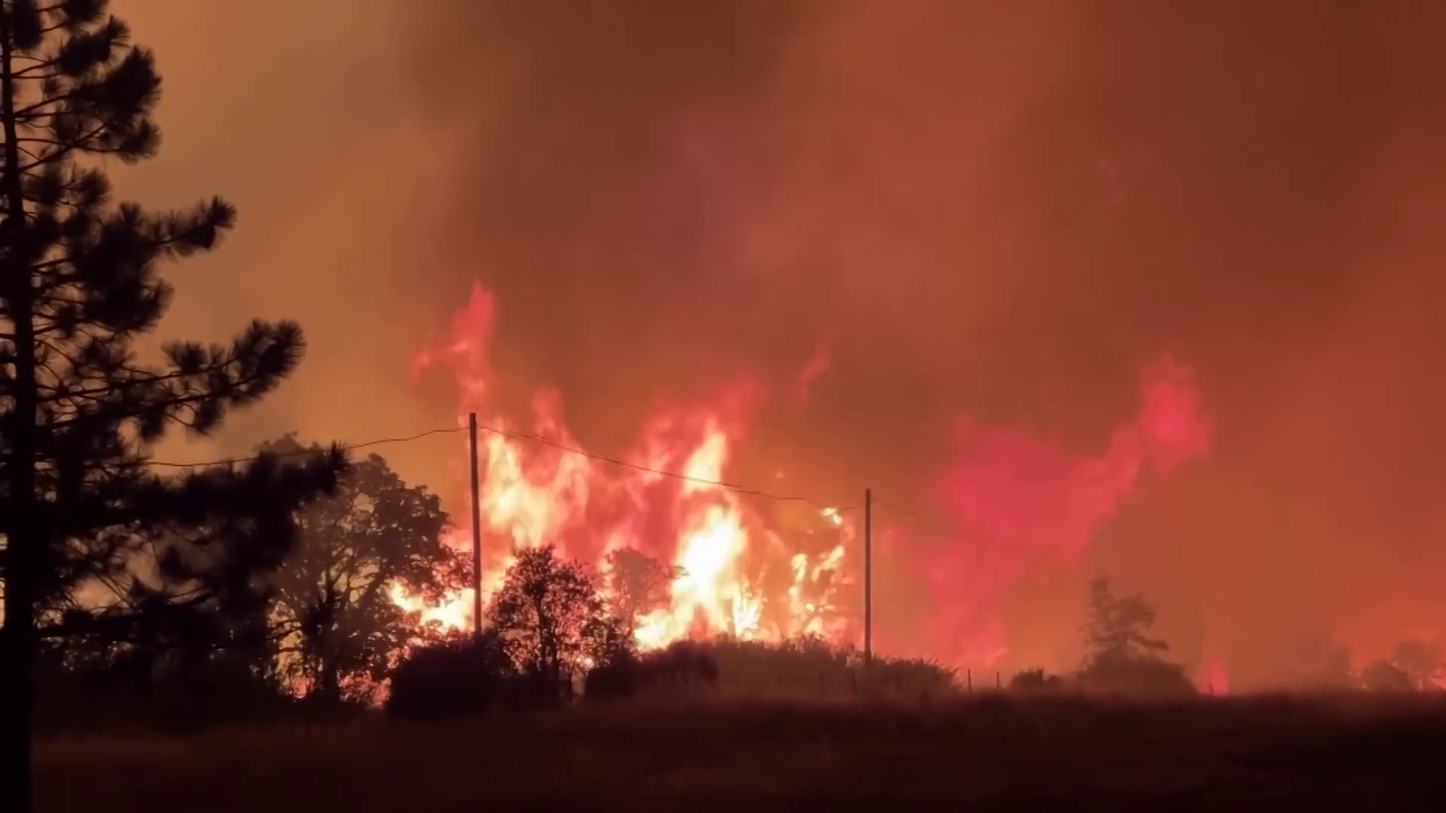forest_fire: (476, 385, 853, 647), (419, 287, 495, 406), (391, 586, 474, 631)
